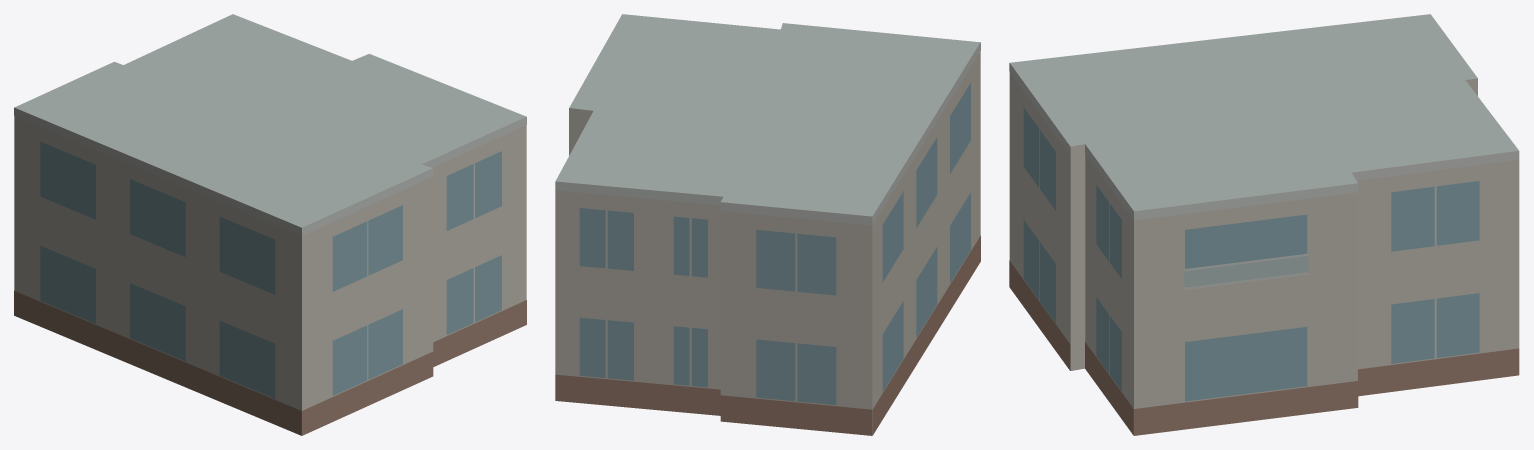
File: survey-upis-32661614.glb
3 renders of one model, left to right at view 1: azimuth 30°, elevation 25°; view 2: azimuth 150°, elevation 25°; view 3: azimuth 270°, elevation 25°, orthographic. The views are drawn at different scales.
Visible parts, largest first — view 1: survey-upis-32661614.tmp; view 2: survey-upis-32661614.tmp; view 3: survey-upis-32661614.tmp.
Part boxes in pixels (bbox=[...]): survey-upis-32661614.tmp: bbox=[14, 14, 526, 435]; survey-upis-32661614.tmp: bbox=[555, 14, 980, 435]; survey-upis-32661614.tmp: bbox=[1009, 14, 1519, 435].
Bounding box in the file's own units: 11.51 × 6.1 × 12.56.
